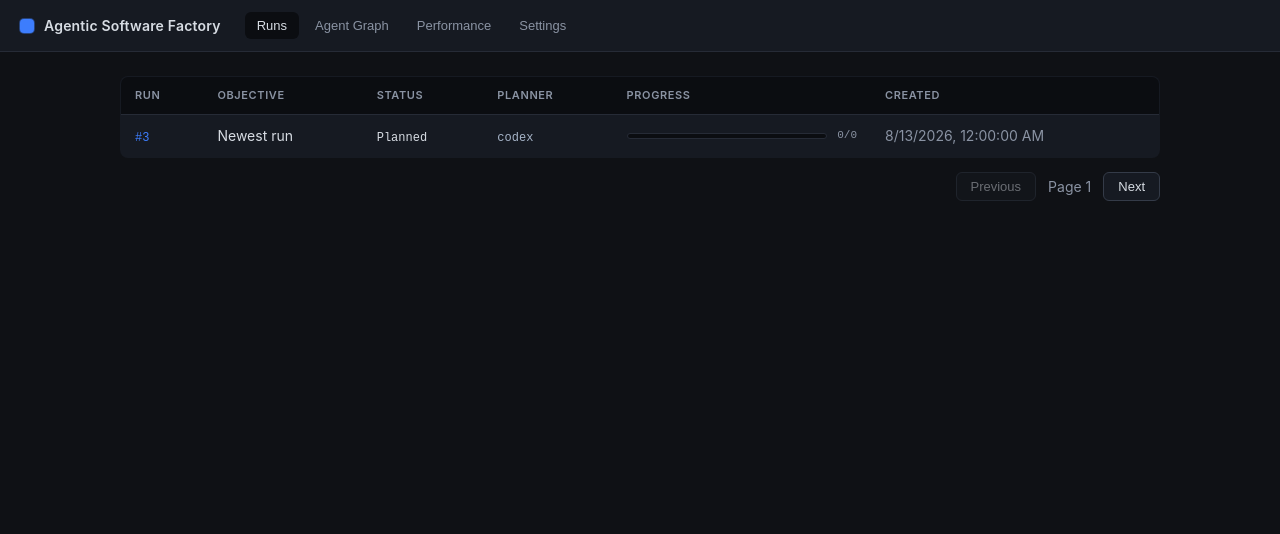
Test: Runs pagination › keeps the current page when opening a run and returning
Expected: the text "Newest run" is shown, [204,114,363,157]
Step 1. Click the button "Next" → x=1132, y=186, box [1103,172,1160,200]
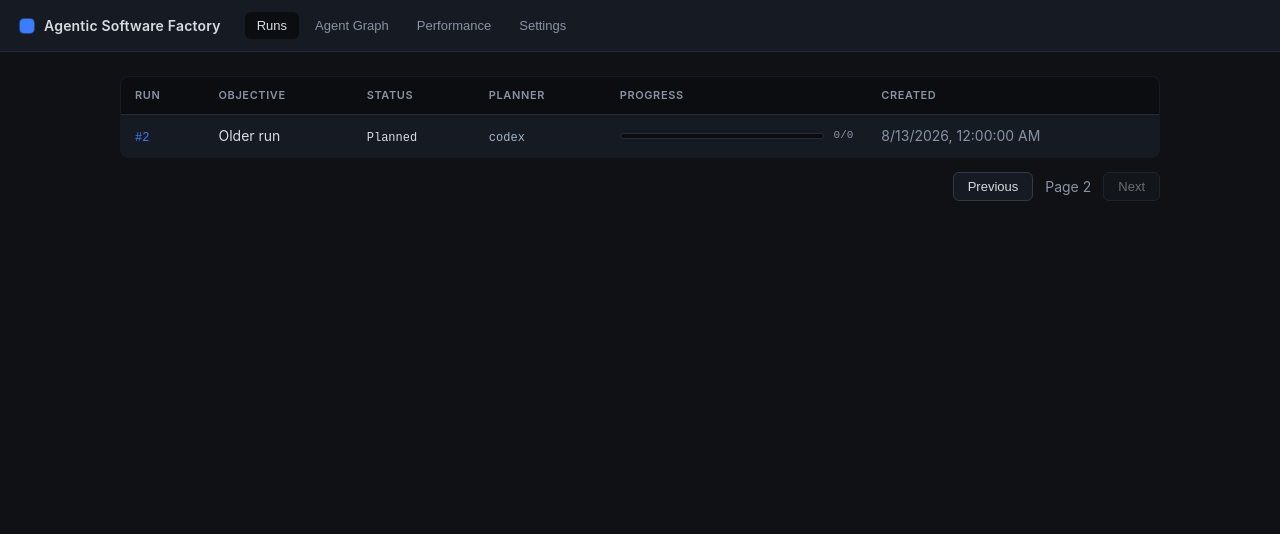
Now the text "Older run" is shown
Step 2. Click the text "Older run" → x=279, y=136, box [204,114,353,157]
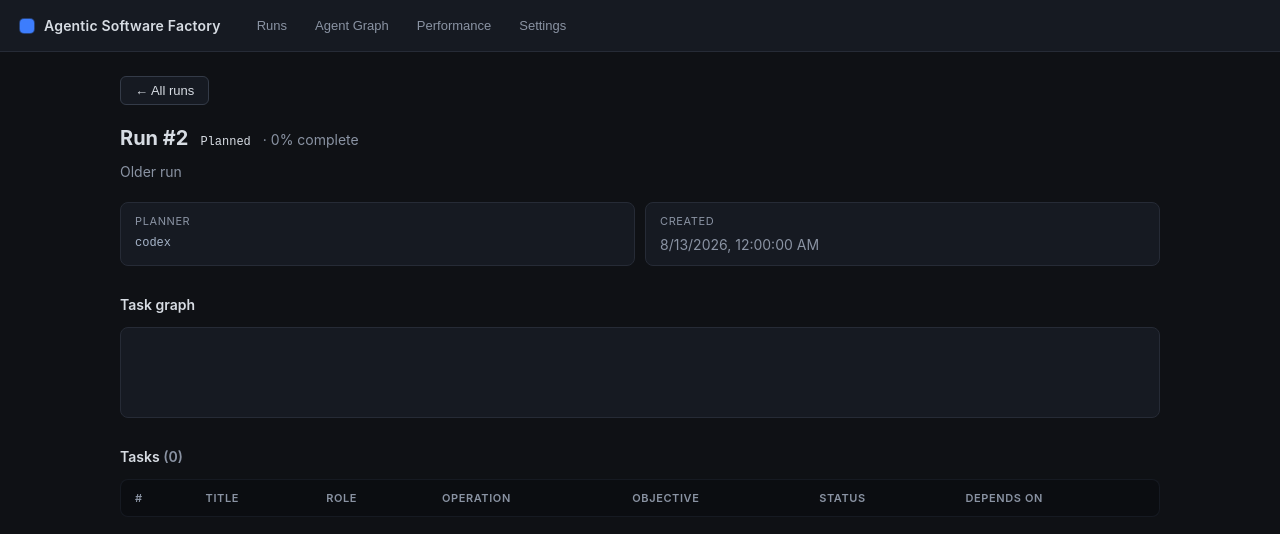
Now the heading "Run #2" is shown, box [120,123,188,153]
Step 3. Click the button "← All runs" → x=165, y=90, box [120,76,209,105]
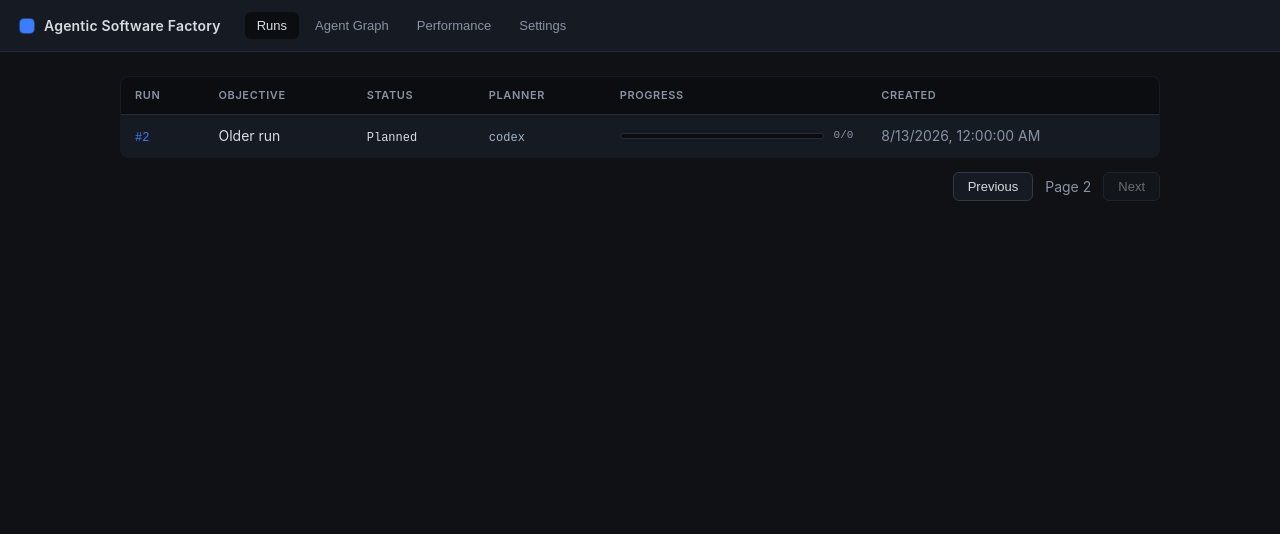
Now the text "Older run" is shown, box [204,114,353,157]
Now the text "Page 2" is shown, box [1045,176,1091,196]
